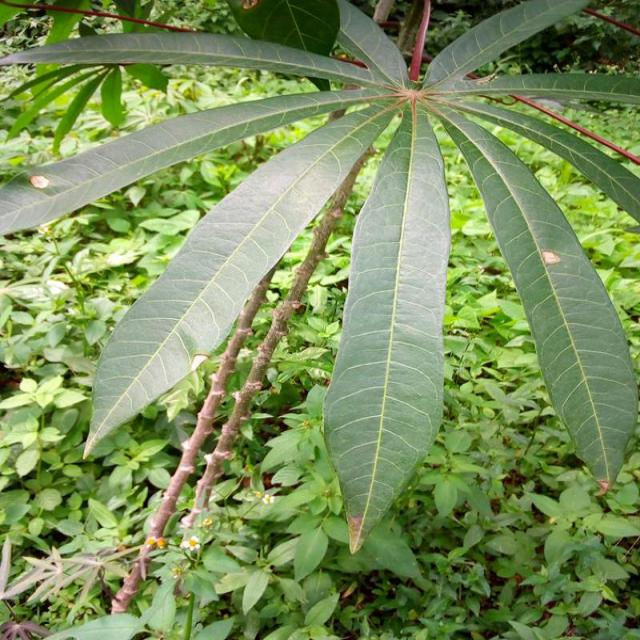cassava leaf: (1, 0, 638, 554), (81, 97, 402, 461), (428, 97, 638, 493), (322, 97, 451, 555)
